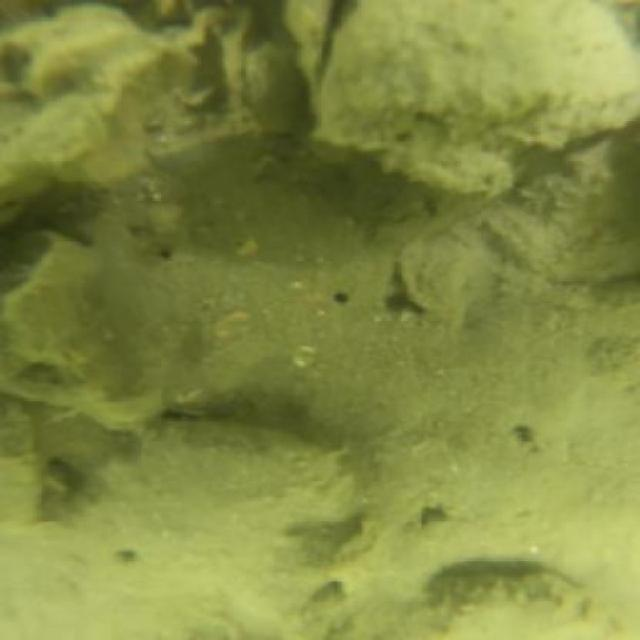Oyster-Closed: (292, 0, 640, 209)
Oyster-Indeterminate: (455, 128, 640, 286)
